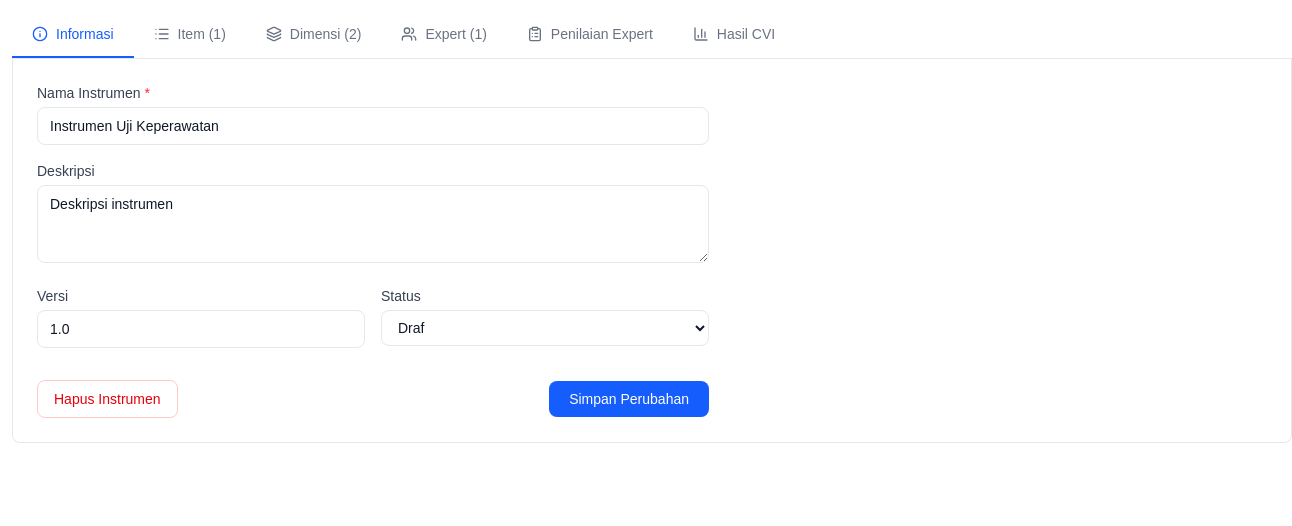
InstrumentDetailTabs › harus menampilkan error saat hapus gagal
Click the button "Hapus Instrumen" at (107, 399), box [37,380,178,418]
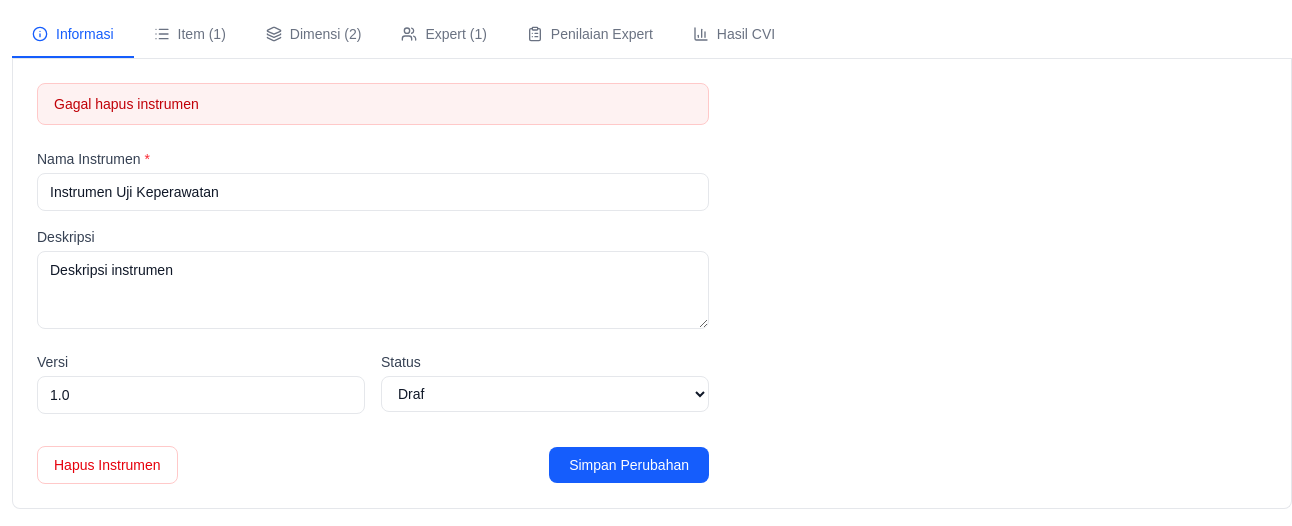
Result: the text "Gagal hapus instrumen" is shown at [37,83,709,125]
